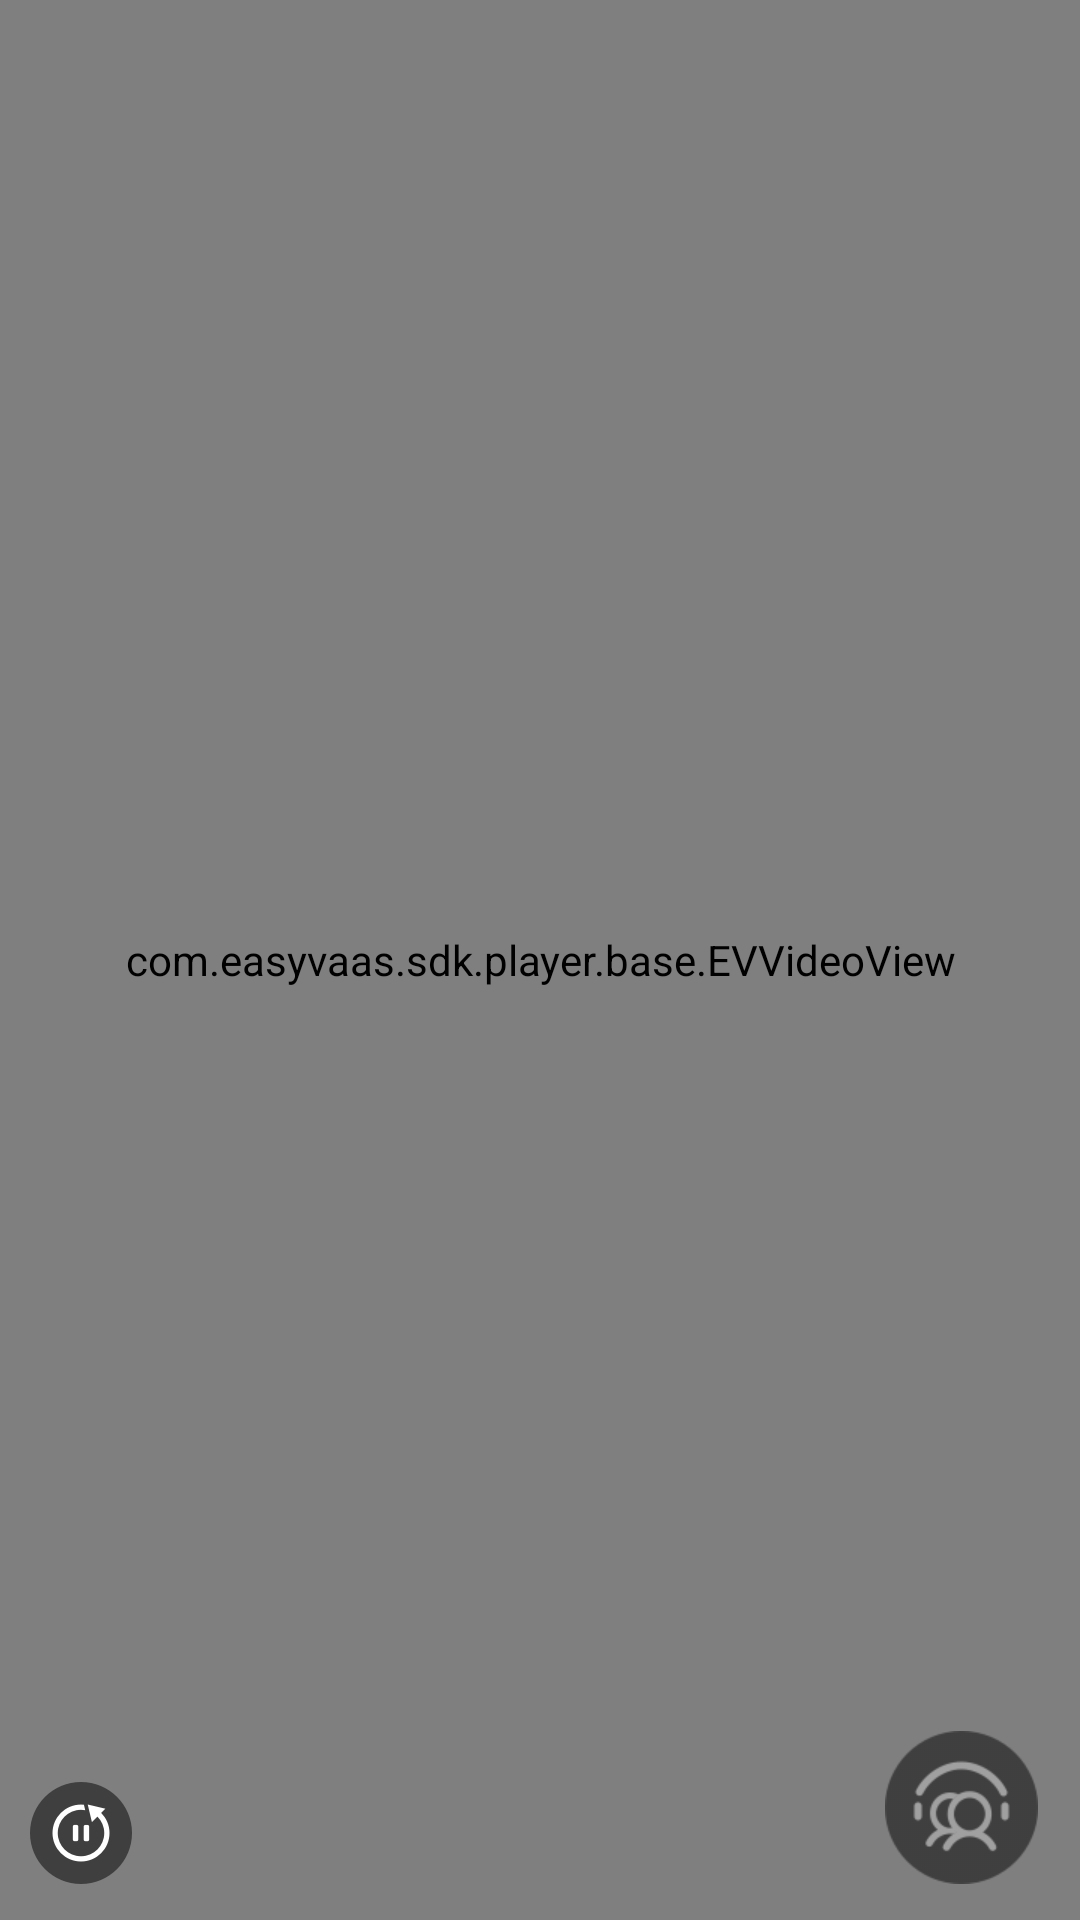

Icons on this 1080×1920 Android screen, each with the point to tap as [x,y]:
live interactive: [961,1807]
play back timeline: [81,1833]
